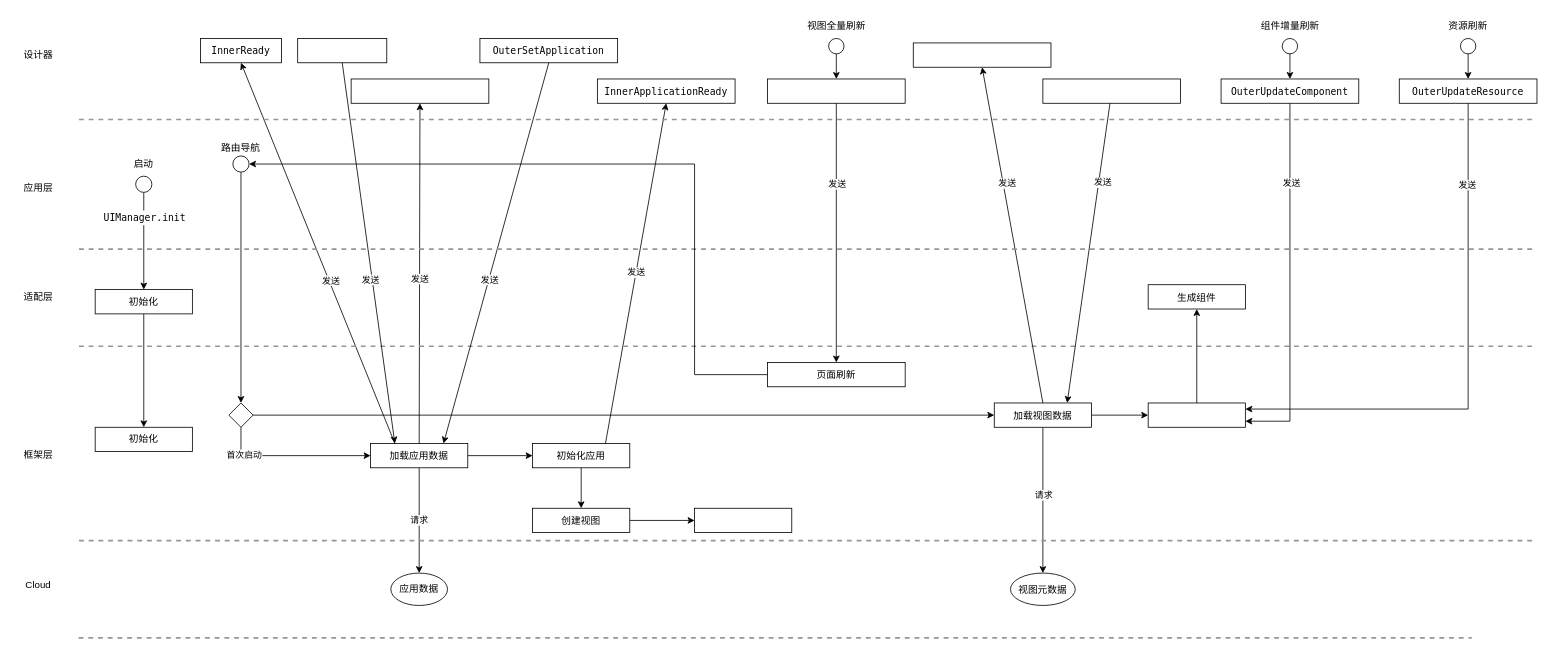
Some shapes in this 1552 by 653 pixel diagram are drawn without their labels. Here are the shapes that lost their labels. From the top down, the box of each, then its label:
(297, 38, 387, 63): OuterSetConfig
(912, 42, 1051, 67): InnerFetchView
(350, 78, 489, 103): InnerFetchApplication
(767, 78, 905, 103): OuterRefreshView
(1042, 78, 1181, 103): OuterSetView
(1147, 402, 1245, 427): 生成组件属性
(694, 507, 792, 533): 创建全局资源
